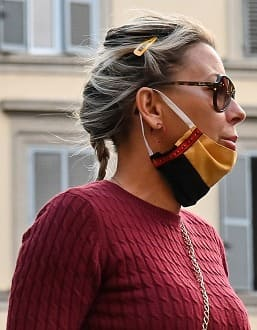with_incorrect_mask: (141, 48, 245, 205)
